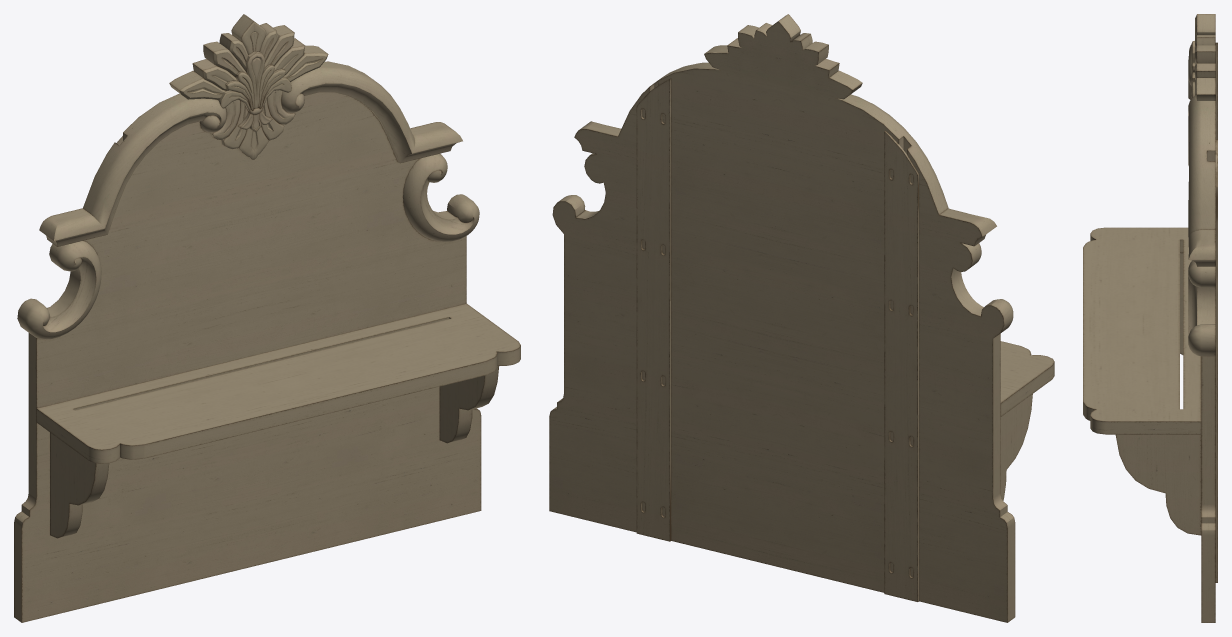
File: example75.gltf
The picture shows the model from 3 angles, left to right: view 1: azimuth 30°, elevation 25°; view 2: azimuth 150°, elevation 25°; view 3: azimuth 270°, elevation 25°; orthographic projection. The views are drawn at different scales.
Size of the model in its own units: 68.39 by 77.82 by 18.8.
Materials: 1 (1 with a texture image).
